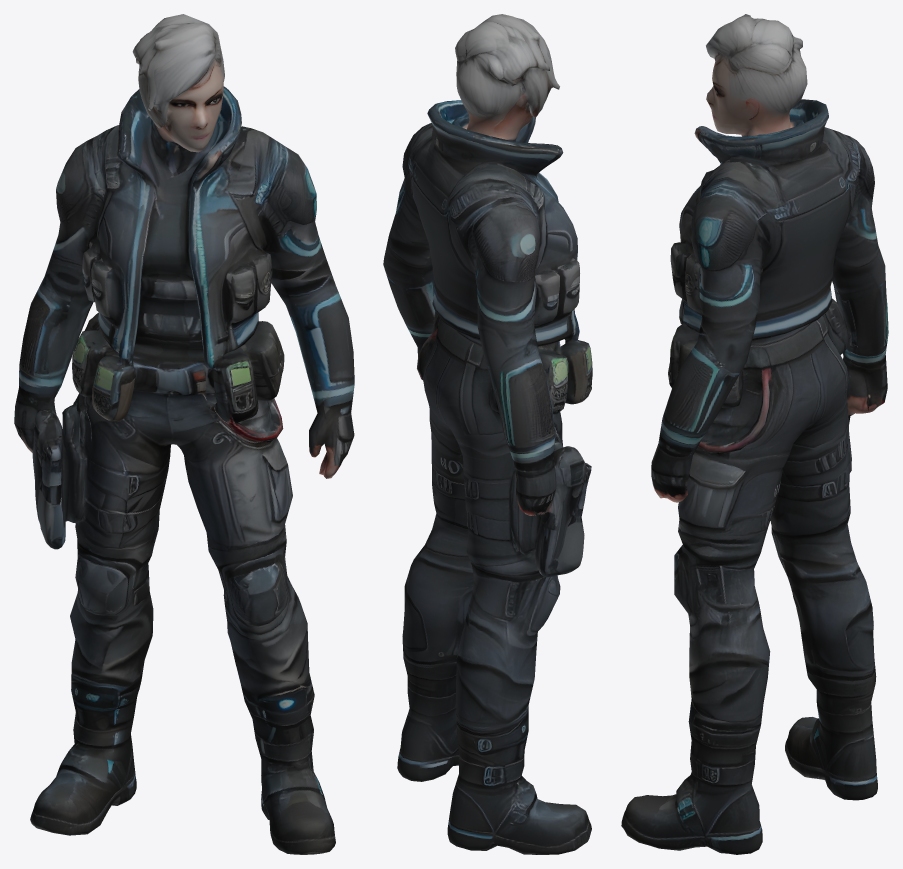
Rendered from tripo_convert_aa3e31f3-976a-48ca-9502-c3f3c7e5e29a.fbx.
3 renders of one model, left to right at view 1: azimuth 30°, elevation 25°; view 2: azimuth 150°, elevation 25°; view 3: azimuth 270°, elevation 25°, orthographic. The views are drawn at different scales.
Parts seen in each view (by area): view 1: tripo_node_aa3e31f3; view 2: tripo_node_aa3e31f3; view 3: tripo_node_aa3e31f3.
Boxes of the visible parts, x1=… form: tripo_node_aa3e31f3: x1=14, y1=14, x2=354, y2=854; tripo_node_aa3e31f3: x1=383, y1=14, x2=592, y2=854; tripo_node_aa3e31f3: x1=621, y1=14, x2=888, y2=854.
Bounding box in the file's own units: 32.94 × 30.75 × 99.76.
Materials: 1 (1 with a texture image).
